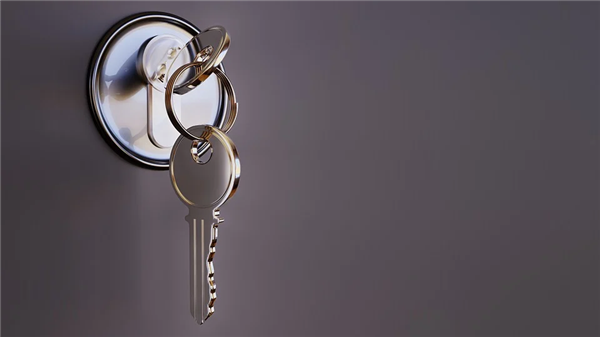key: (164, 119, 245, 329)
